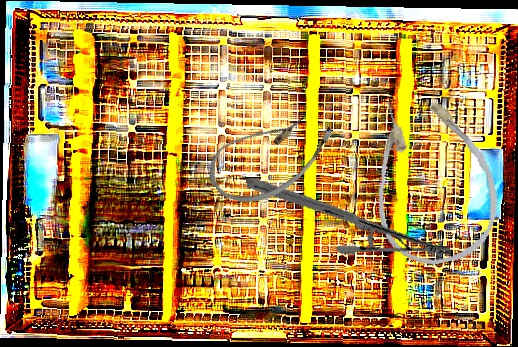Cannula: (356, 83, 509, 274), (198, 88, 344, 222)
Needle Holder: (245, 146, 452, 288)
